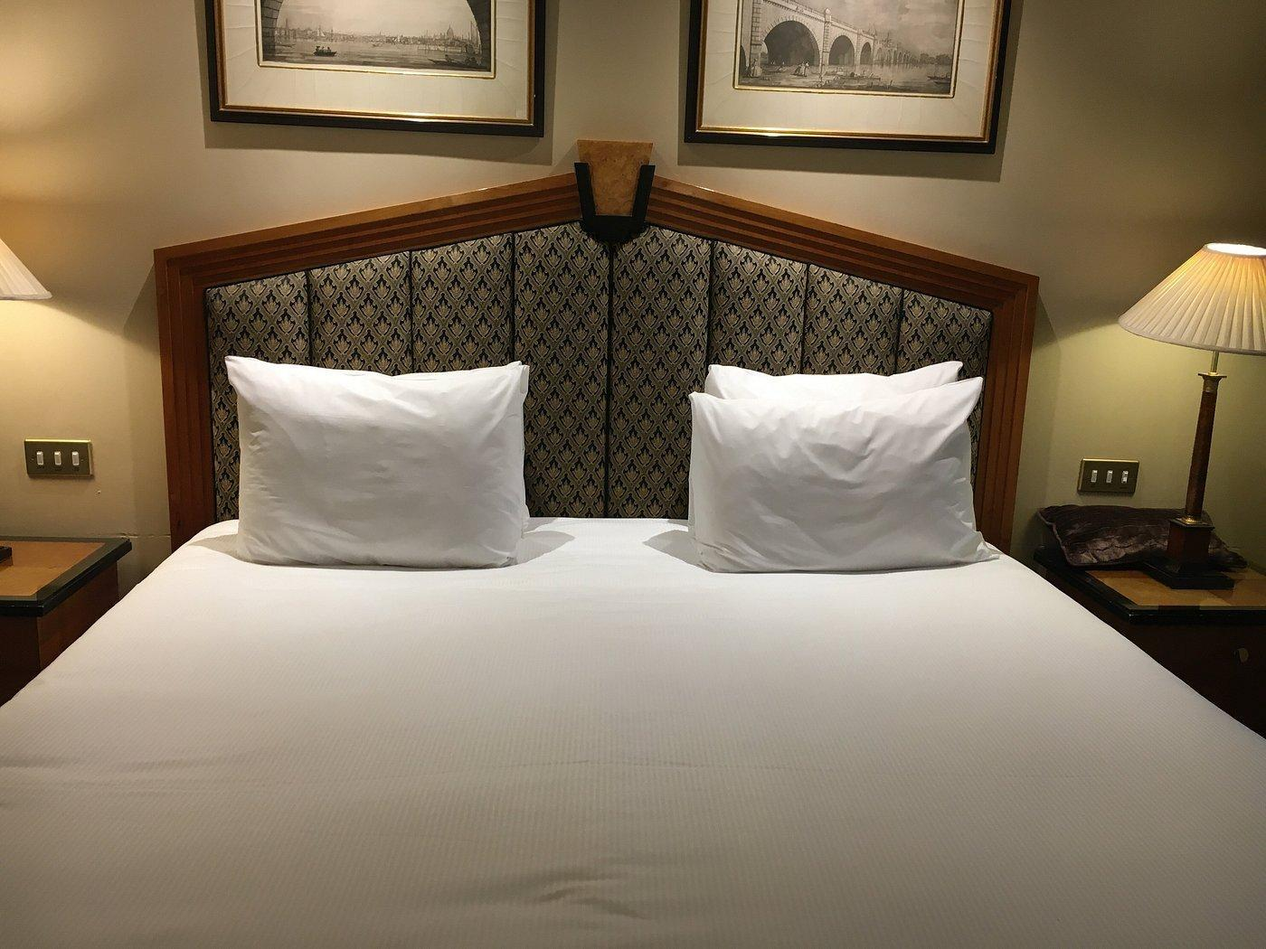clean_bed: (0, 145, 1265, 934)
lamp: (1115, 241, 1266, 613)
organised_pillow: (220, 354, 534, 574), (690, 355, 996, 578)
